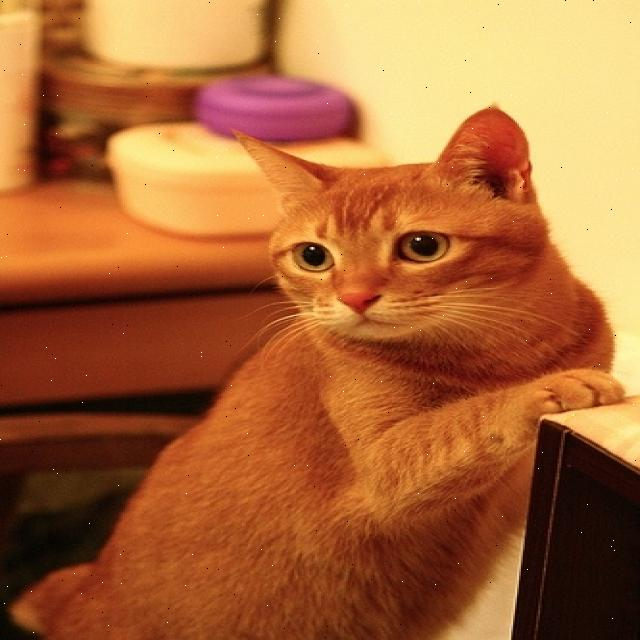cat: (12, 109, 623, 639)
